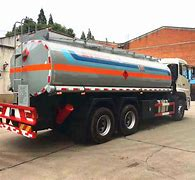oil truck: (6, 21, 190, 148)
